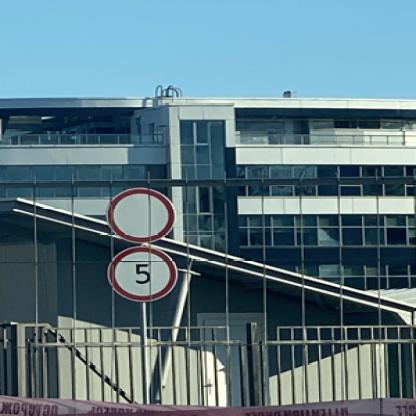speedlimit: (105, 246, 175, 300)
